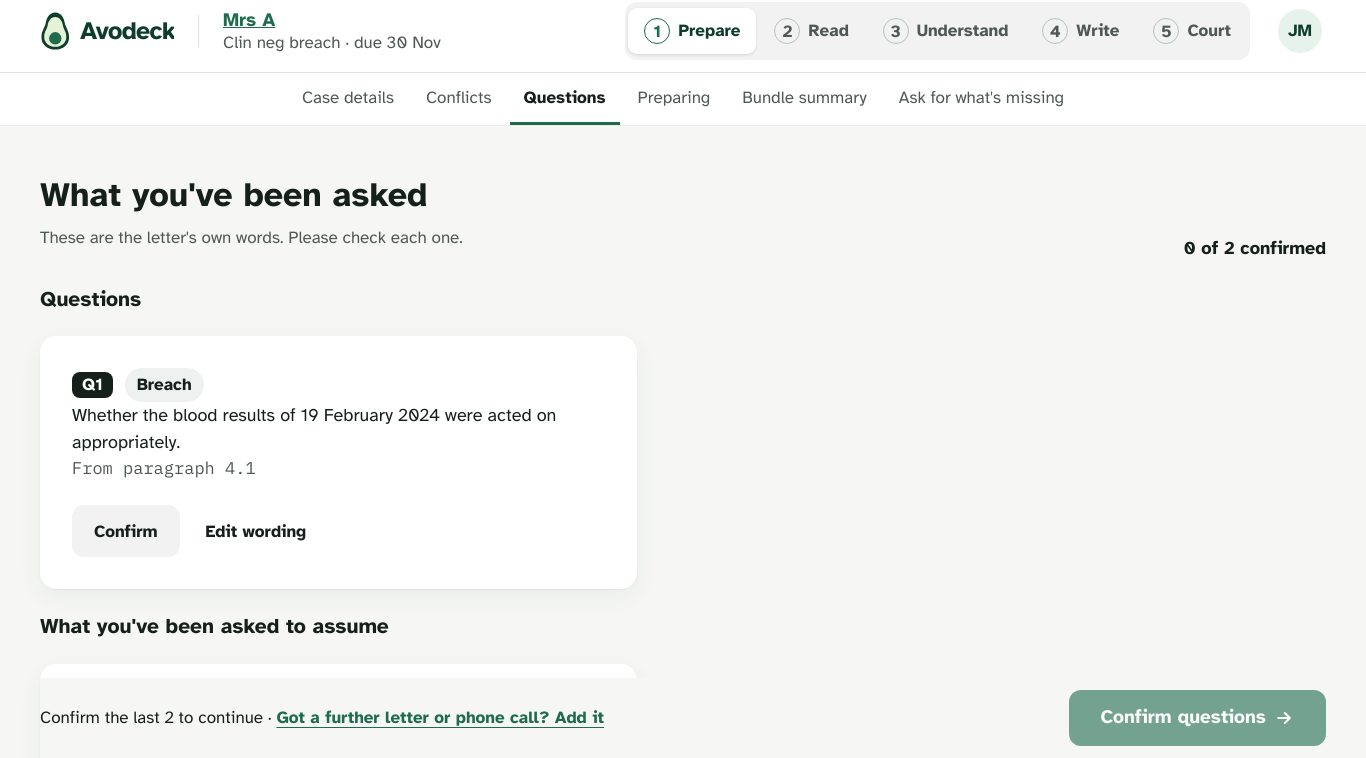
Test: a question outside your field can be flagged, and a note drafted about it
What coordinates should you click on to do the following:
click the button "Edit wording"
I would click on:
 (256, 531)
Its box is [192,505,320,557].
(page scrolled)
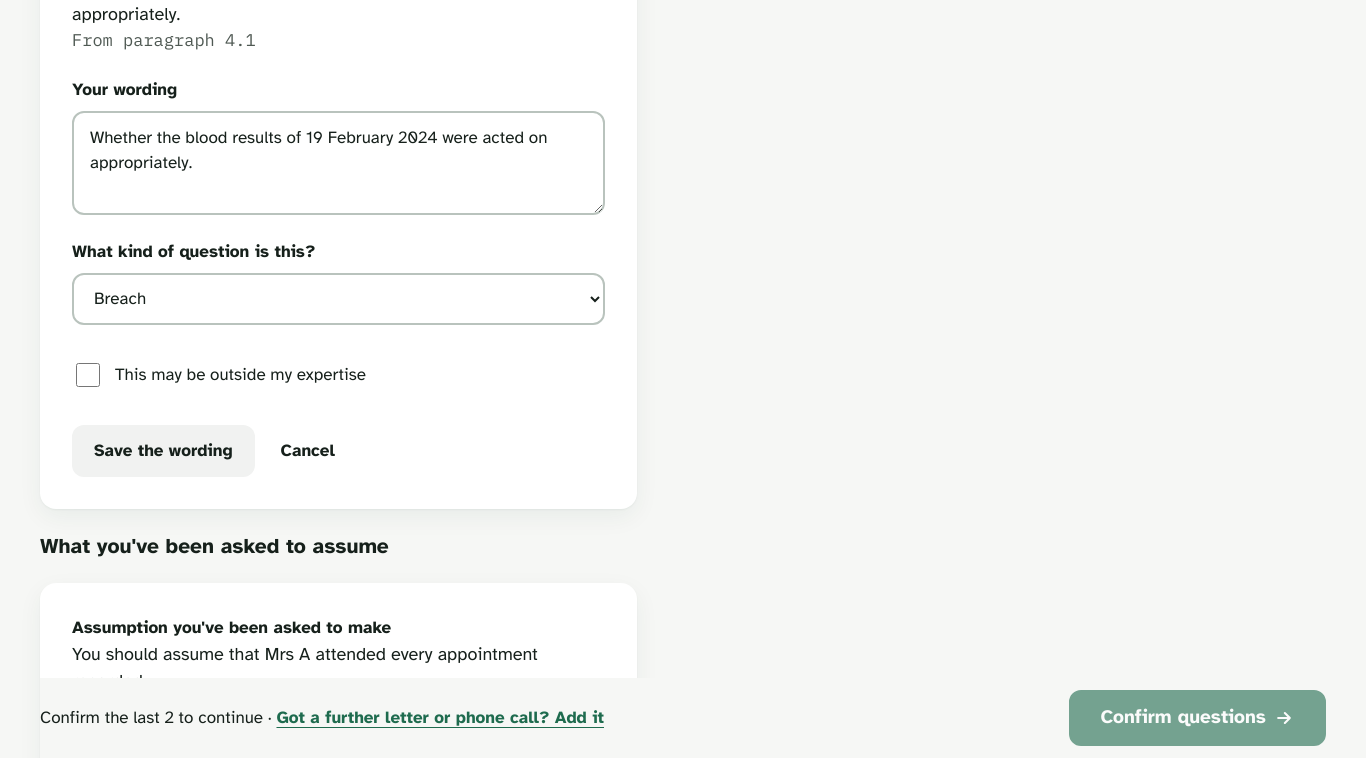
What coordinates should you click on to do the following:
click the checkbox labelled "This may be outside my expertise"
I would click on:
 (88, 375)
Its box is [76,363,100,387].
(page scrolled)
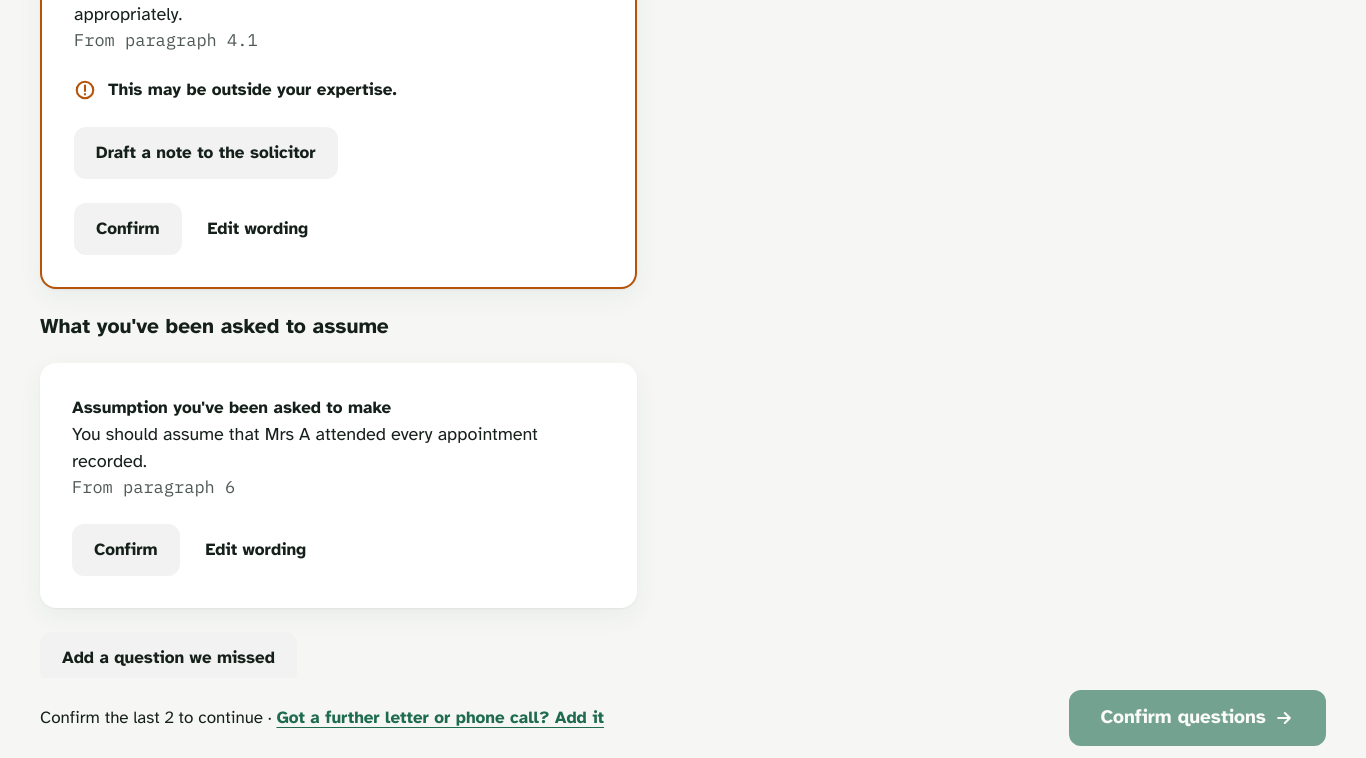
What coordinates should you click on to do the following:
click the button "Draft a note to the solicitor"
I would click on:
 (206, 153)
Its box is [74,127,338,179].
(page scrolled)
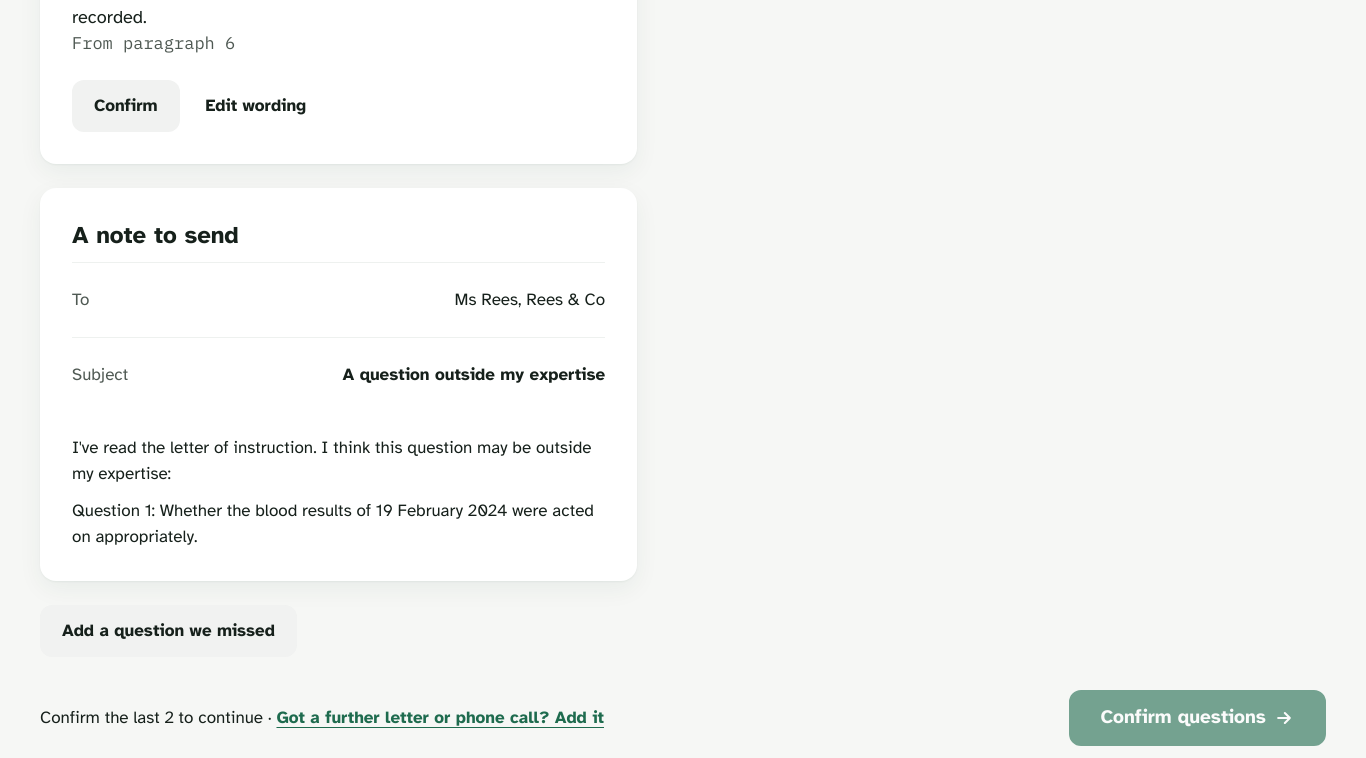
expect the text "A question outside my expertise" is shown: met, box [342,362,605,387]
